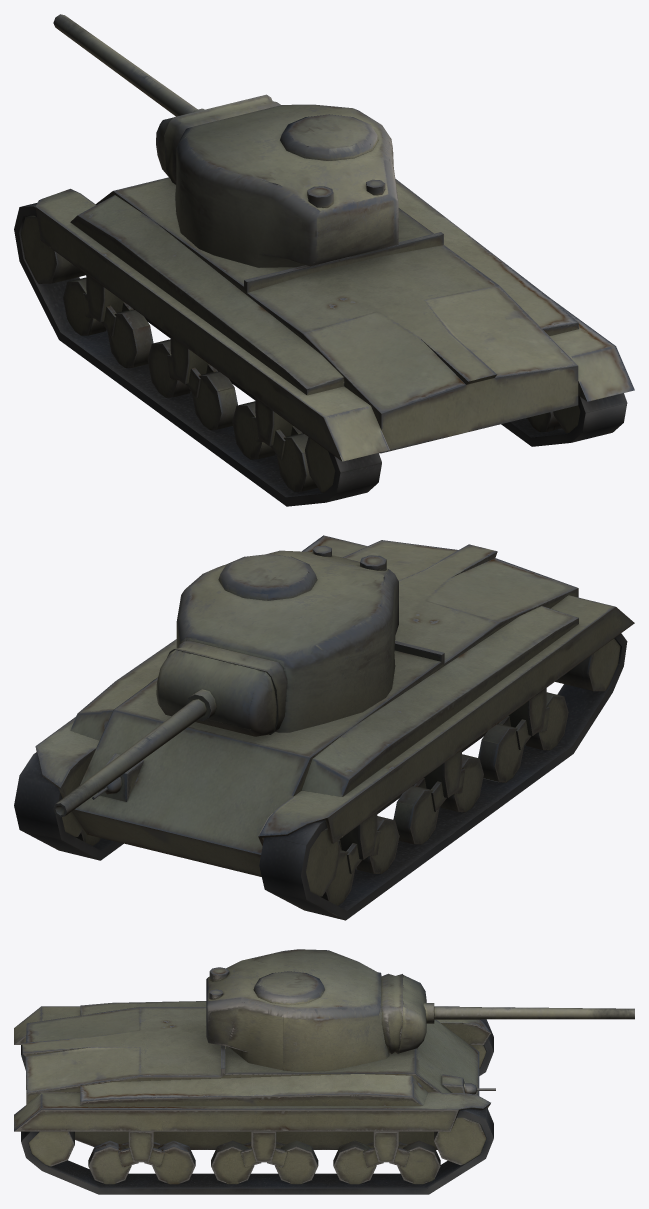
3 views of the same model, one above another, from view 1: azimuth 30°, elevation 25°; view 2: azimuth 150°, elevation 25°; view 3: azimuth 270°, elevation 25° (orthographic). The views are drawn at different scales.
Parts seen in each view (by area): view 1: T25 Hull, T25 Turret; view 2: T25 Hull, T25 Turret; view 3: T25 Hull, T25 Turret.
Boxes of the visible parts, box(x1,y1,x2,y2) form: T25 Hull: box(14, 177, 634, 506); T25 Turret: box(53, 14, 398, 267); T25 Hull: box(14, 535, 634, 920); T25 Turret: box(53, 545, 398, 817); T25 Hull: box(14, 1001, 495, 1194); T25 Turret: box(206, 949, 634, 1071).
Size of the model in its own units: 3.07 by 2.37 by 7.8.
